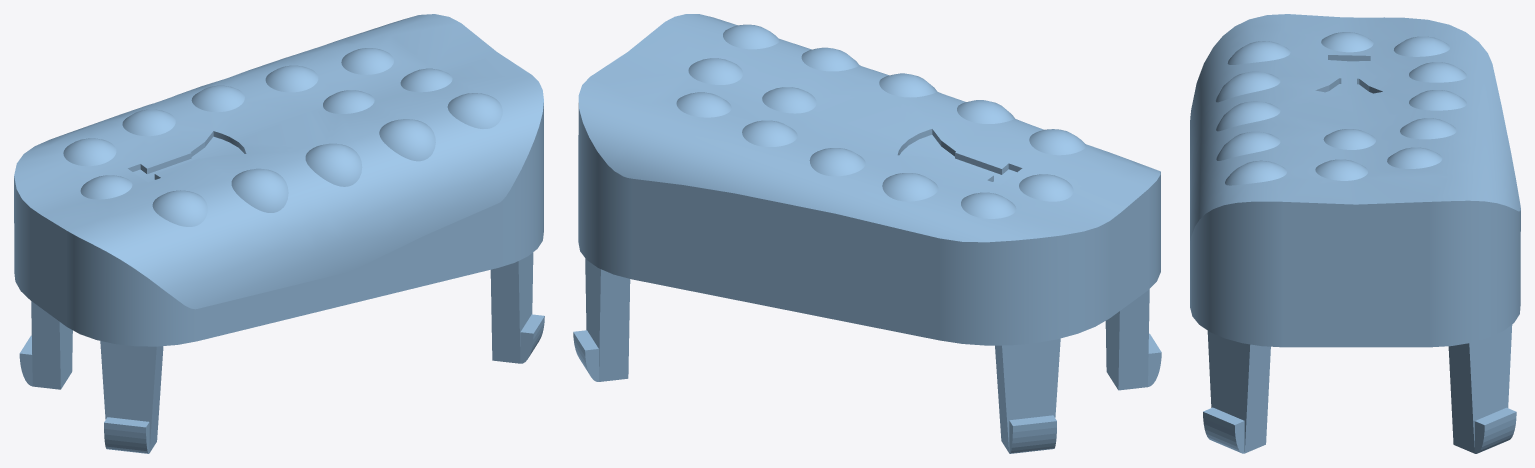
3 views of the same model, side by side, from view 1: azimuth 30°, elevation 25°; view 2: azimuth 150°, elevation 25°; view 3: azimuth 270°, elevation 25° (orthographic). The views are drawn at different scales.
Visible parts, largest first — view 1: part_0; view 2: part_0; view 3: part_0.
Boxes of the visible parts, box(x1,y1,x2,y2) form: part_0: box(14, 14, 544, 453); part_0: box(573, 14, 1161, 453); part_0: box(1190, 14, 1520, 453).
Bounding box in the file's own units: 38.92 × 20.53 × 23.28.
